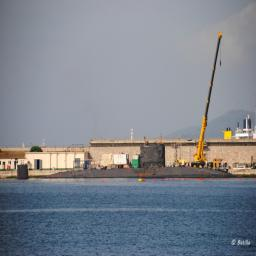submarine: (18, 145, 236, 181)
